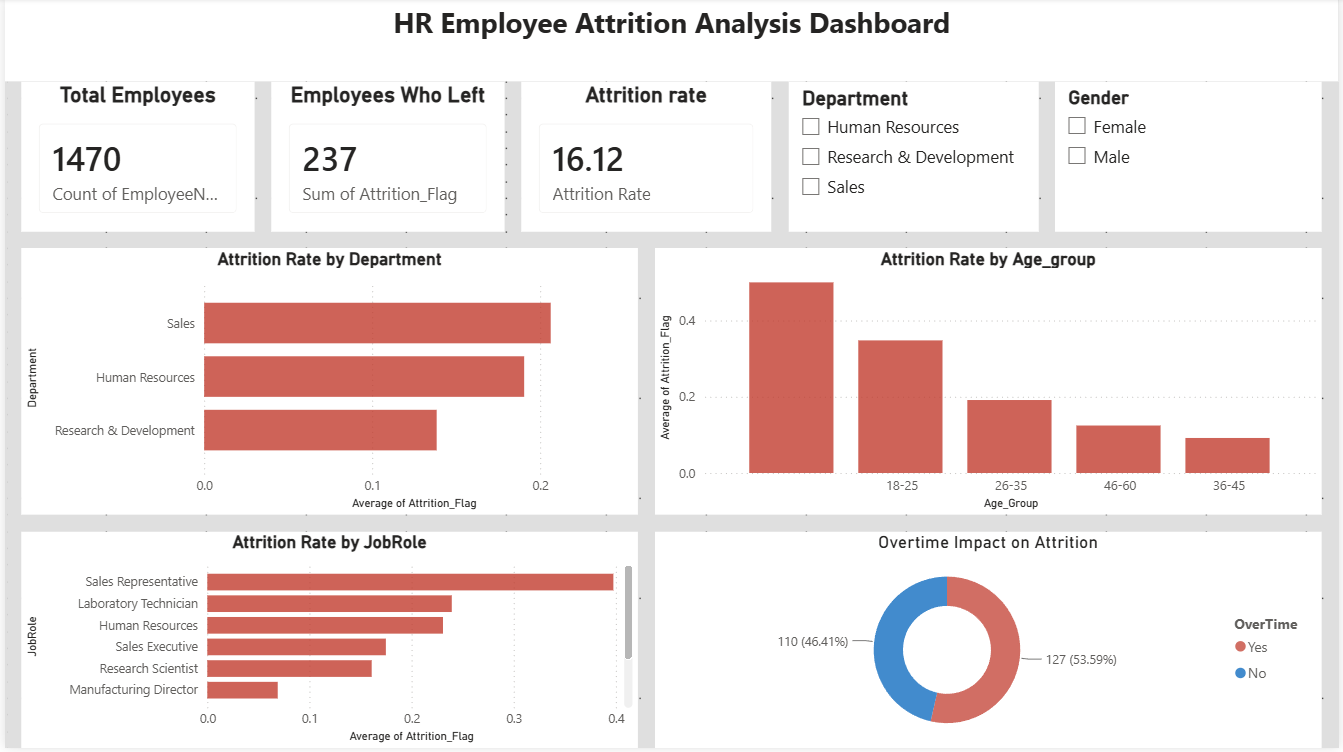

The dashboard page shown, as its layout file describes it:
{"tool":"powerbi","page":{"name":"Page 1","canvas":[1280,720],"ordinal":0},"visuals":[{"type":"cardVisual","title":"Total Employees","fields":{"Data":["CountNonNull(hr_attrition_clean.EmployeeNumber)"]},"box":[0,144,192,160],"z":0},{"type":"textbox","box":[304,0,576,80],"z":1},{"type":"cardVisual","title":"Employees Who Left","fields":{"Data":["Sum(hr_attrition_clean.Attrition_Flag)"]},"box":[0,320,192,144],"z":2},{"type":"cardVisual","title":"Attrition  rate","fields":{"Data":["hr_attrition_clean.Attrition Rate"]},"box":[0,496,176,144],"z":3},{"type":"clusteredBarChart","fields":{"Y":["Avg(hr_attrition_clean.Attrition_Flag)"],"Category":["hr_attrition_clean.Department"]},"box":[208,144,672,288],"z":4},{"type":"donutChart","fields":{"Category":["hr_attrition_clean.OverTime"],"Y":["Sum(hr_attrition_clean.Attrition_Flag)"]},"box":[912,144,288,304],"z":5},{"type":"clusteredBarChart","fields":{"Y":["Avg(hr_attrition_clean.Attrition_Flag)"],"Category":["hr_attrition_clean.JobRole"]},"box":[208,464,608,256],"z":6},{"type":"clusteredColumnChart","fields":{"Y":["Avg(hr_attrition_clean.Attrition_Flag)"],"Category":["hr_attrition_clean.Age_Group"]},"box":[832,464,448,256],"z":7},{"type":"slicer","fields":{"Values":["hr_attrition_clean.Department"]},"box":[0,16,208,128],"z":8}]}

Visuals, with their boxes in screenshot pixels (x1, y1, x2, y2), scaled from the page's 1280x720 canvas onto the 1343x752 screenshot:
"Total Employees" cardVisual: (0, 150, 201, 318)
textbox: (319, 0, 923, 84)
"Employees Who Left" cardVisual: (0, 334, 201, 485)
"Attrition  rate" cardVisual: (0, 518, 185, 668)
clusteredBarChart - Avg(hr_attrition_clean.Attrition_Flag) x hr_attrition_clean.Department: (218, 150, 923, 451)
donutChart - hr_attrition_clean.OverTime x Sum(hr_attrition_clean.Attrition_Flag): (957, 150, 1259, 468)
clusteredBarChart - Avg(hr_attrition_clean.Attrition_Flag) x hr_attrition_clean.JobRole: (218, 485, 856, 751)
clusteredColumnChart - Avg(hr_attrition_clean.Attrition_Flag) x hr_attrition_clean.Age_Group: (873, 485, 1342, 751)
slicer - hr_attrition_clean.Department: (0, 17, 218, 150)
